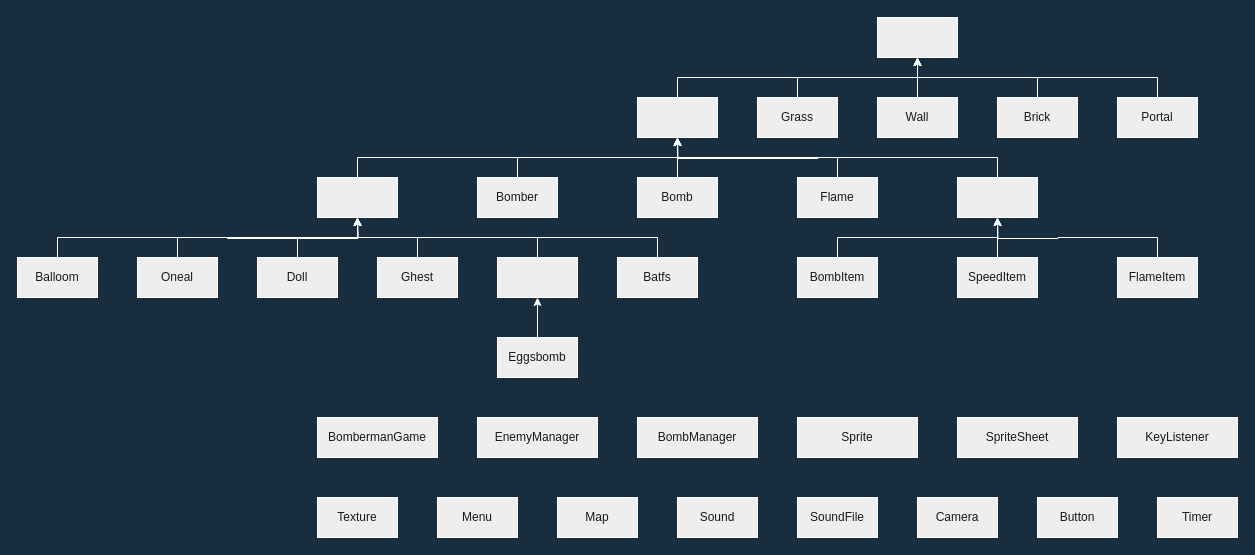
The diagram is 1255 pixels wide and 555 high, and some of its shapes have lost their labels. Each missing label, with the box of its shape:
DynamicEntity: (636, 96, 718, 138)
Eggs: (496, 256, 578, 298)
Enemy: (316, 176, 398, 218)
Entity: (876, 16, 958, 58)
Item: (956, 176, 1038, 218)
